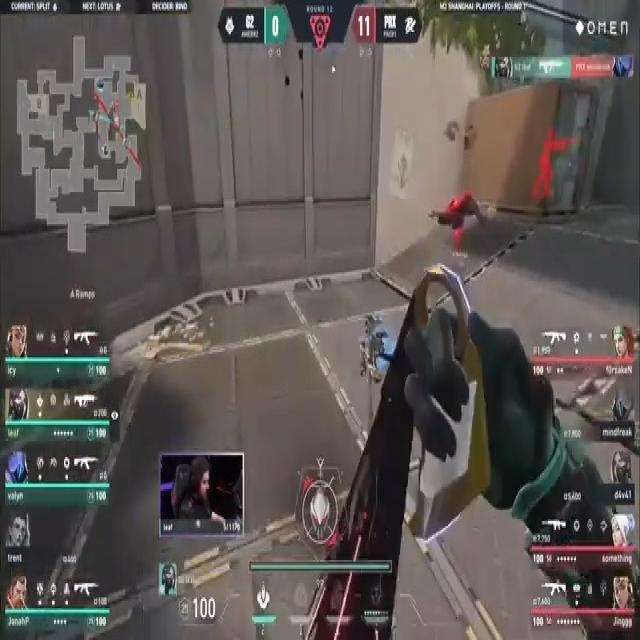enemy behind wall: (538, 118, 566, 202)
